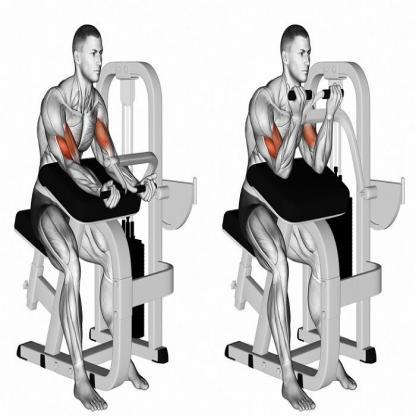arm curl machine: (222, 89, 405, 391), (15, 152, 197, 390)
